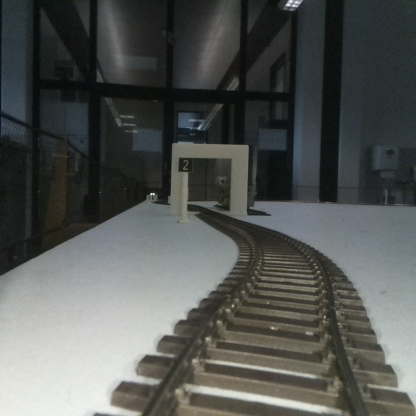black-info-2: (178, 157, 192, 220)
